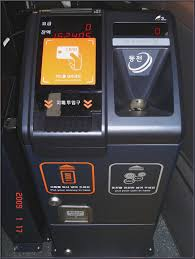terminal: (25, 10, 110, 146)
